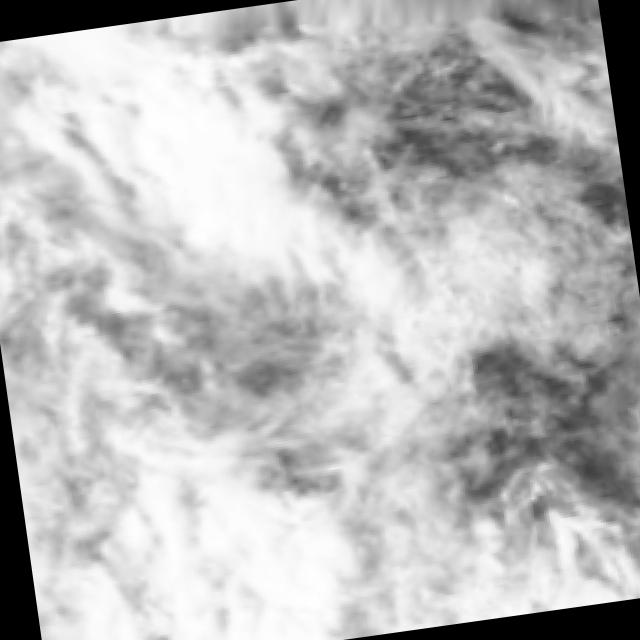CB: (148, 493, 349, 640)
